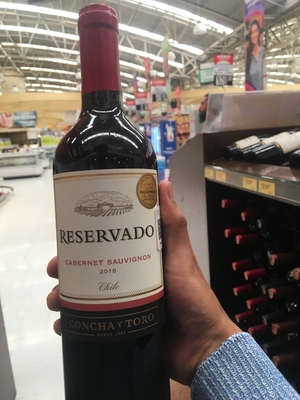reservado cabernet sauvignon: (49, 9, 168, 400)
